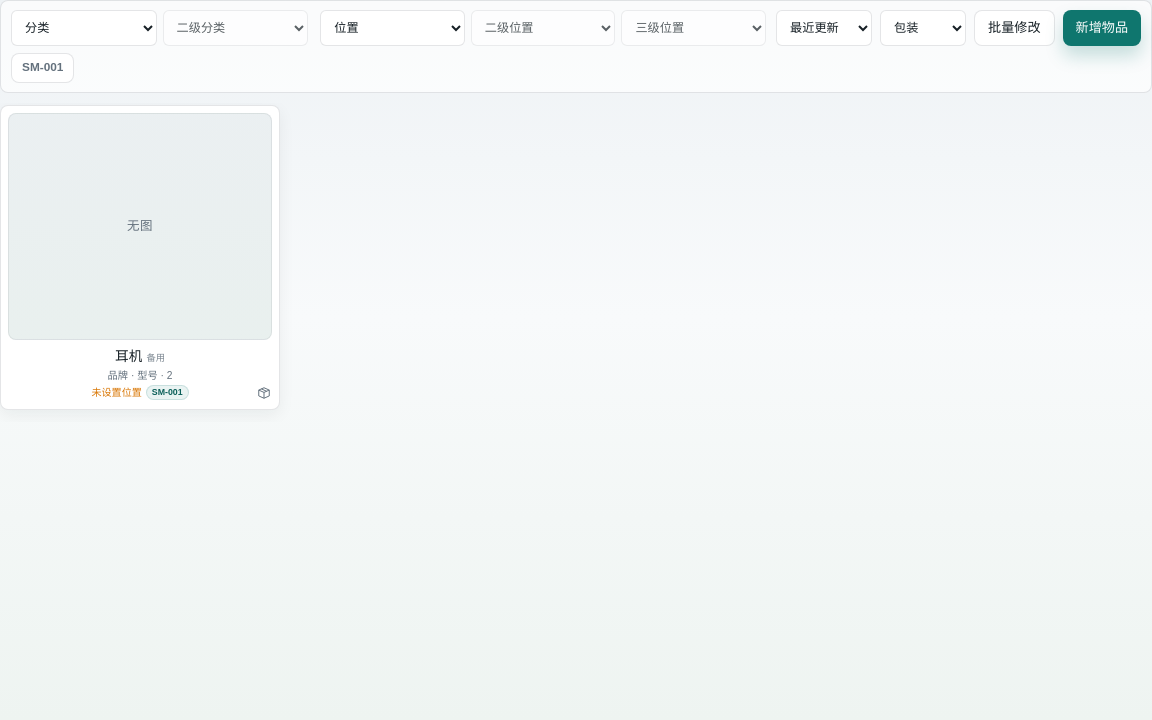
Test case: copy a saved item into a new draft › canceling a copy performs no image or record writes
Click the button "无图 耳机 备用 品牌 · 型号 · 2 未设置位置 SM-001": [140, 257] box x1=0 y1=105 x2=280 y2=410
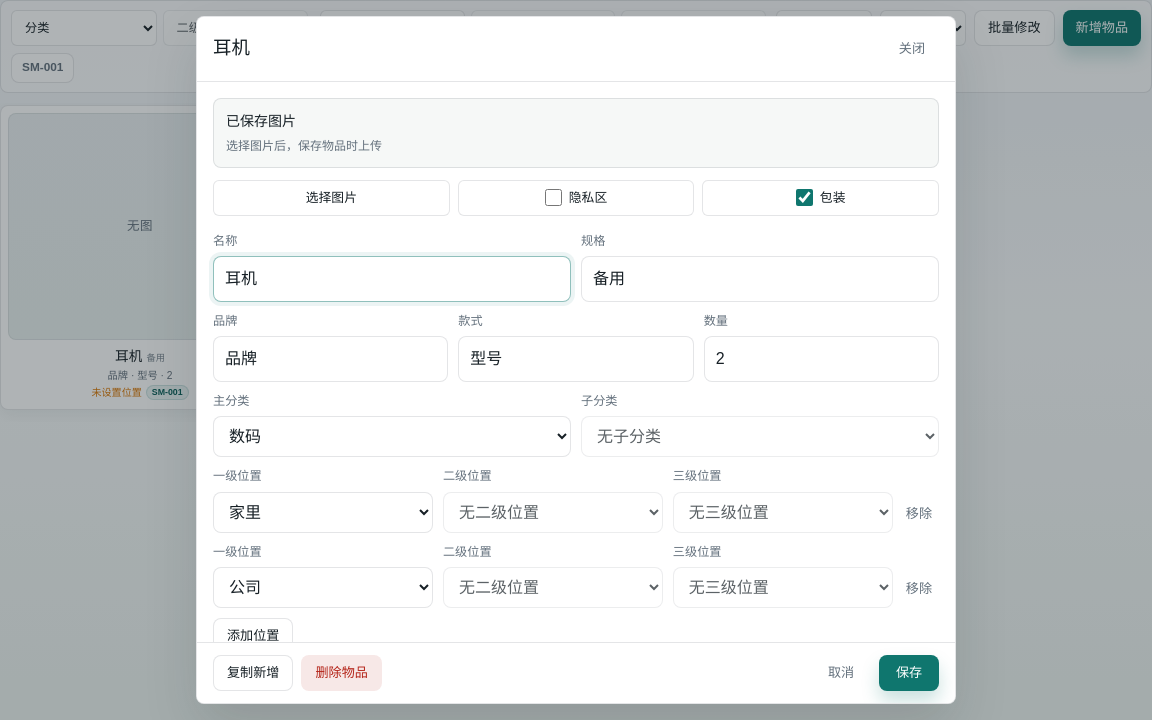
Click the button "复制新增": [253, 673] box x1=213 y1=655 x2=294 y2=691
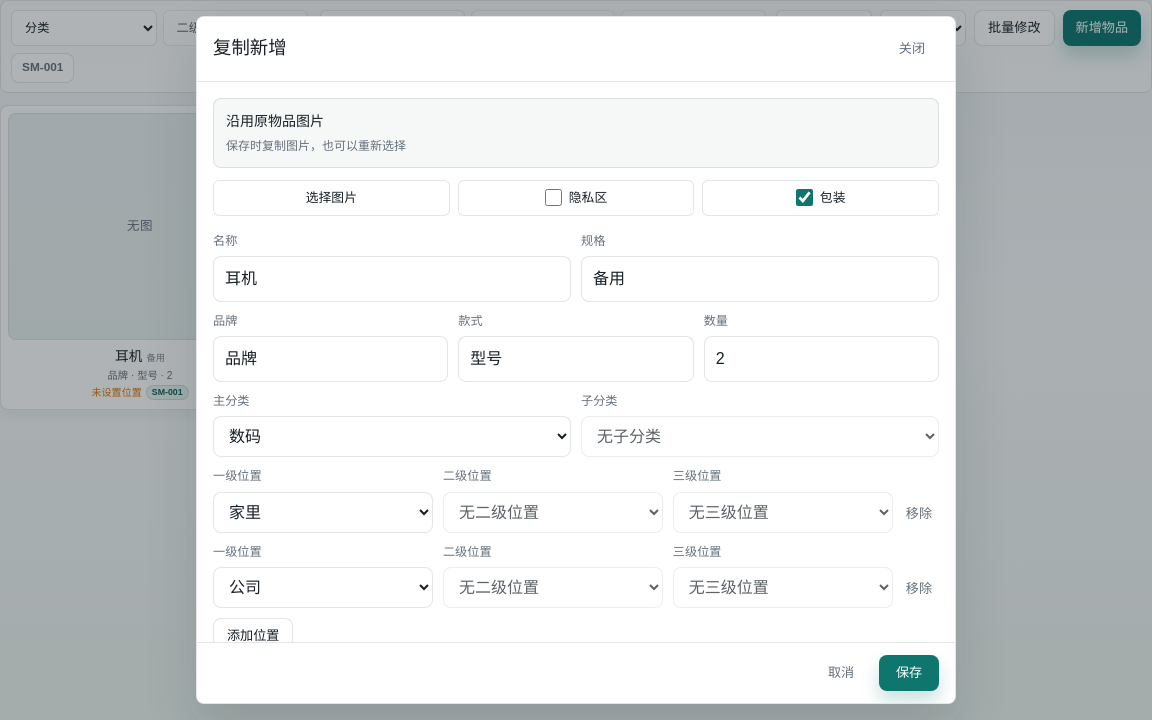
Click the button "取消": [841, 673] box x1=811 y1=655 x2=871 y2=691
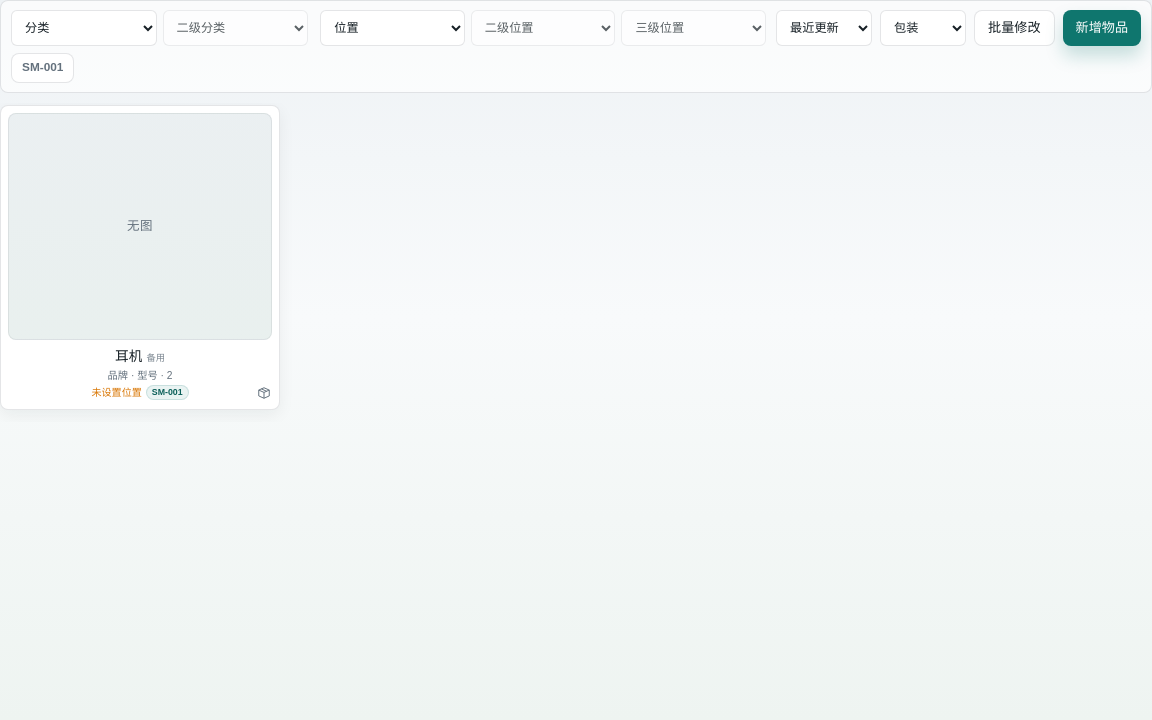
Expected: the dialog is gone
